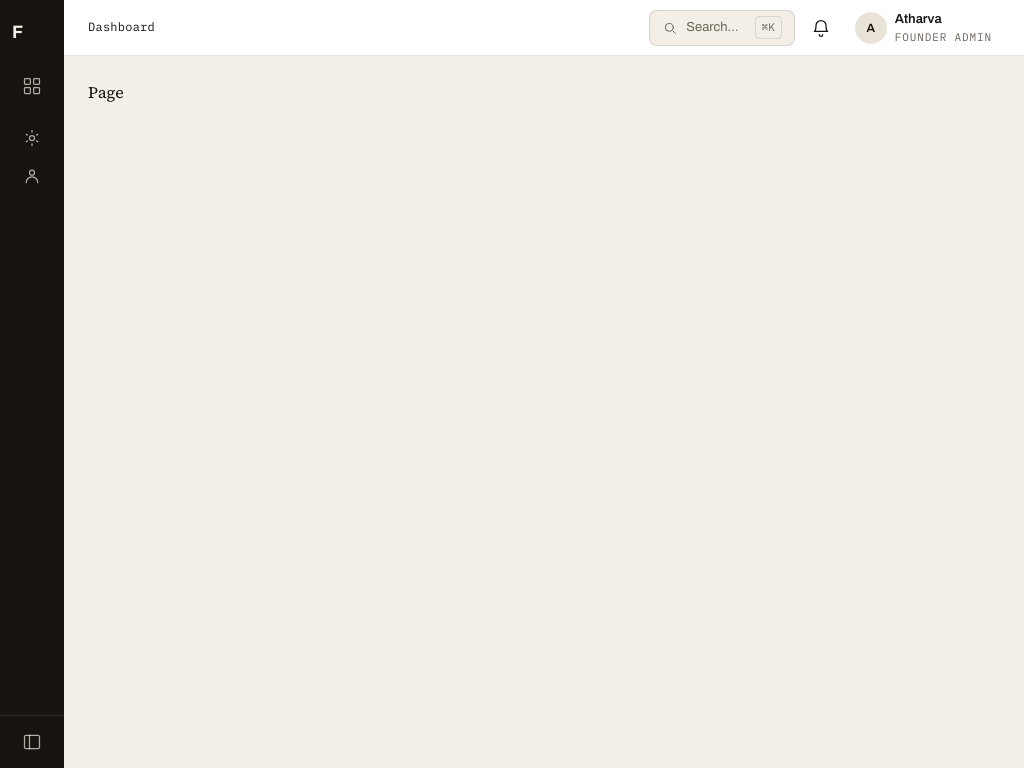
Test case: Command palette › shows search unavailable without inventing results
This screenshot has width=1024, height=768.
Click the button "Search… ⌘K" at (722, 28), box 649,10 -> 795,46
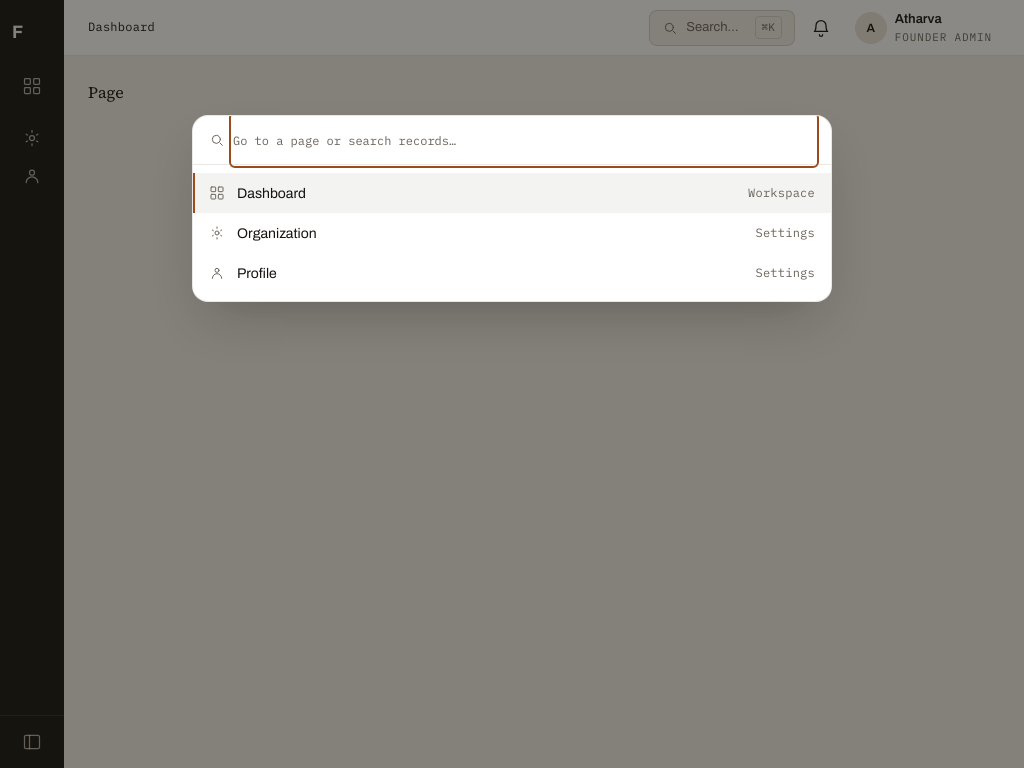
Type "Ac" into the field named "Search navigation and records" at (524, 140), box 233,116 -> 815,164
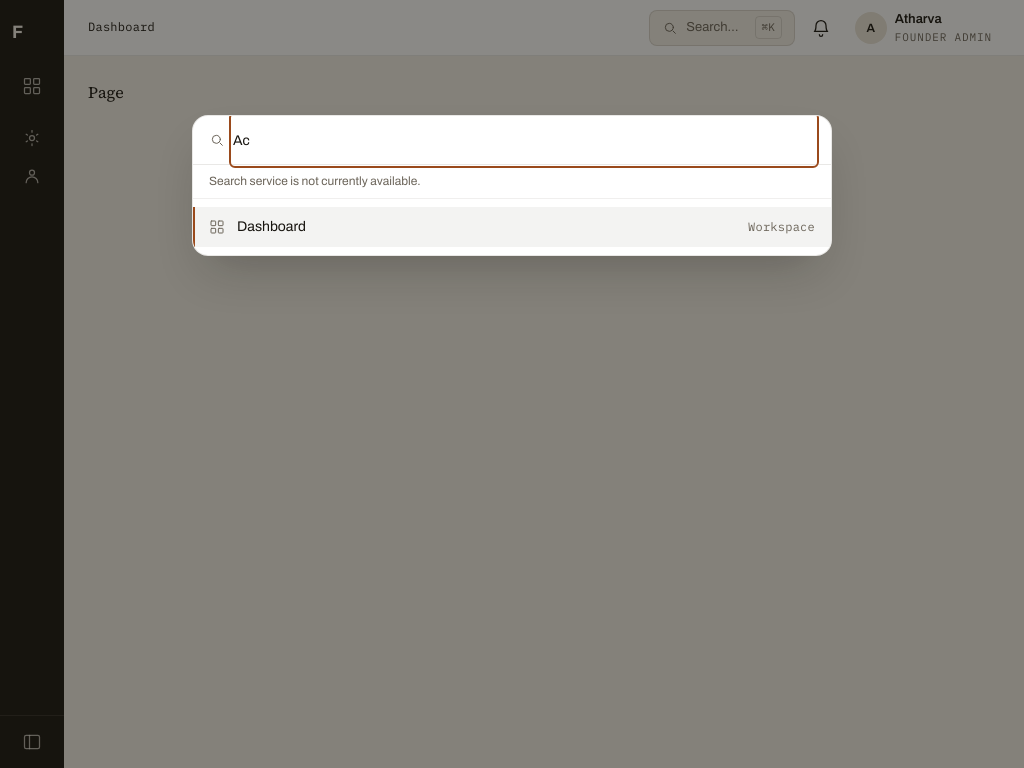
Check: the text "Search service is not currently available." is shown, box 193,165 -> 831,199
